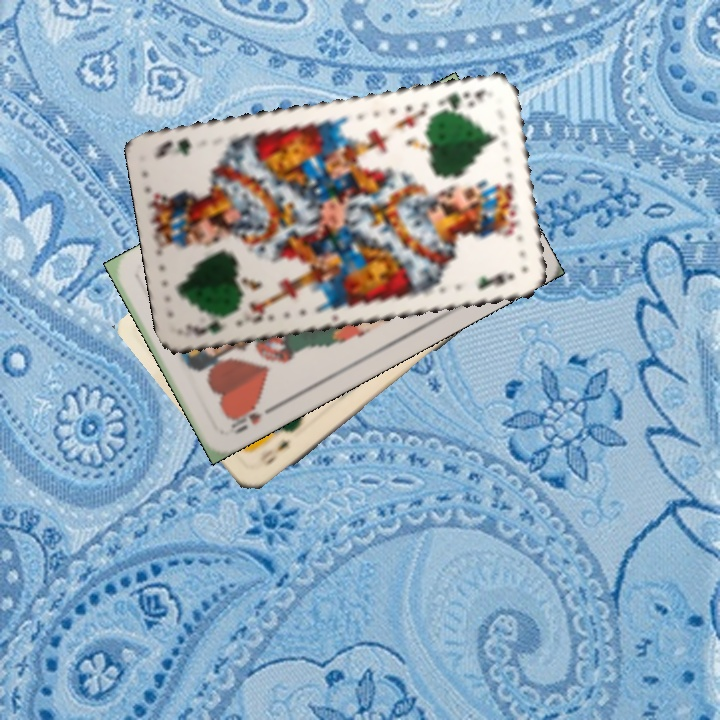EO: (255, 435, 292, 469)
GK: (436, 85, 492, 115), (182, 312, 235, 339)
HO: (223, 399, 278, 437)
